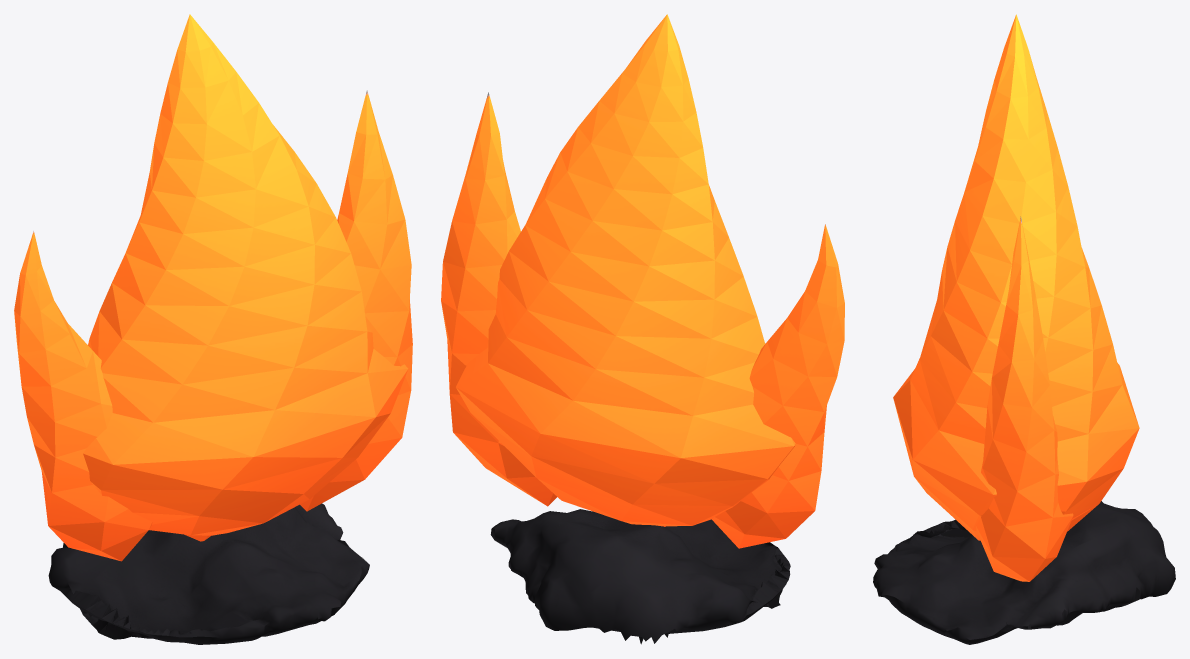
Rendered from gema_fenix.fbx.
The picture shows the model from 3 angles, left to right: view 1: azimuth 30°, elevation 25°; view 2: azimuth 150°, elevation 25°; view 3: azimuth 270°, elevation 25°; orthographic projection. The views are drawn at different scales.
Visible parts, largest first — view 1: gema_fenix_cristal, gema_fenix; view 2: gema_fenix_cristal, gema_fenix; view 3: gema_fenix_cristal, gema_fenix.
Part boxes in pixels (x1=…): gema_fenix_cristal: x1=14, y1=14, x2=412, y2=561; gema_fenix: x1=48, y1=503, x2=369, y2=644; gema_fenix_cristal: x1=441, y1=14, x2=844, y2=548; gema_fenix: x1=490, y1=509, x2=790, y2=644; gema_fenix_cristal: x1=893, y1=14, x2=1139, y2=581; gema_fenix: x1=873, y1=501, x2=1175, y2=644.
Size of the model in its own units: 2.86 by 4.01 by 1.93.
3 materials, 3 textured.
